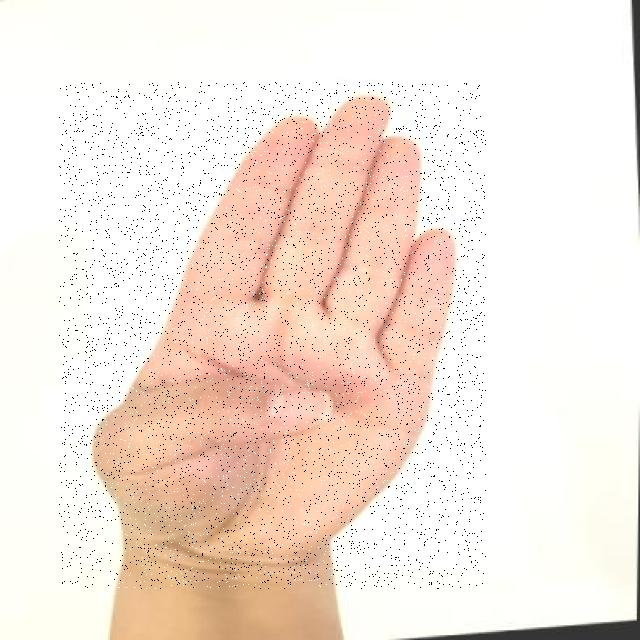B: (59, 82, 486, 589)
